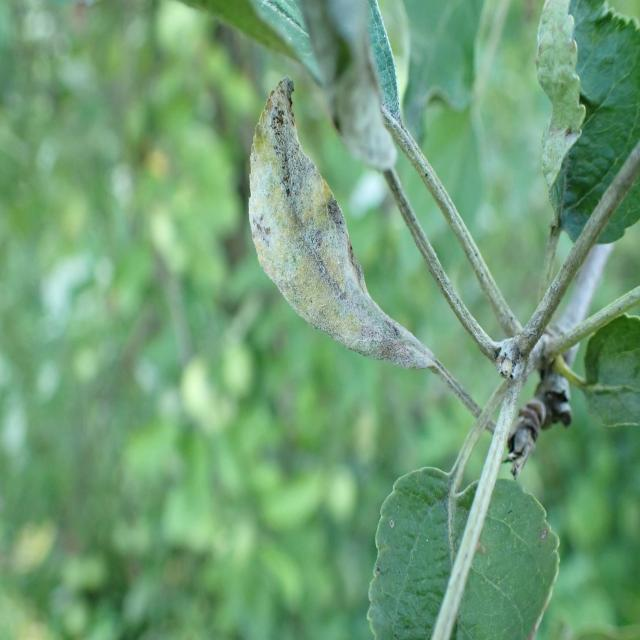Powdery_mildew: (234, 76, 450, 405)
